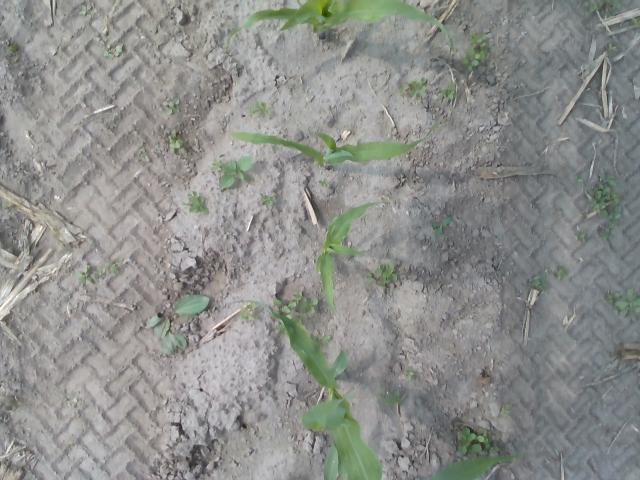Maize: (229, 300, 384, 480), (226, 1, 454, 57), (231, 126, 438, 170), (316, 200, 386, 312), (426, 455, 518, 480), (324, 444, 339, 480)
Weeds: (148, 295, 212, 353), (584, 170, 618, 222), (458, 425, 499, 456), (218, 154, 252, 190), (464, 32, 490, 70), (275, 292, 317, 314), (396, 76, 428, 100), (368, 264, 398, 288), (616, 288, 640, 316), (187, 192, 208, 216), (247, 102, 270, 120), (168, 130, 185, 154), (432, 216, 452, 236), (588, 0, 620, 12), (96, 264, 120, 278), (598, 222, 616, 240), (164, 99, 182, 116), (242, 304, 257, 324), (386, 391, 402, 409), (439, 85, 456, 100), (103, 46, 124, 58), (530, 276, 546, 291), (546, 267, 566, 278), (260, 194, 274, 208), (79, 272, 93, 286), (0, 42, 18, 52), (574, 229, 587, 242), (78, 4, 92, 15), (606, 291, 620, 302), (66, 396, 78, 408), (320, 178, 330, 187), (572, 176, 583, 184), (500, 408, 510, 416), (406, 370, 414, 380)
